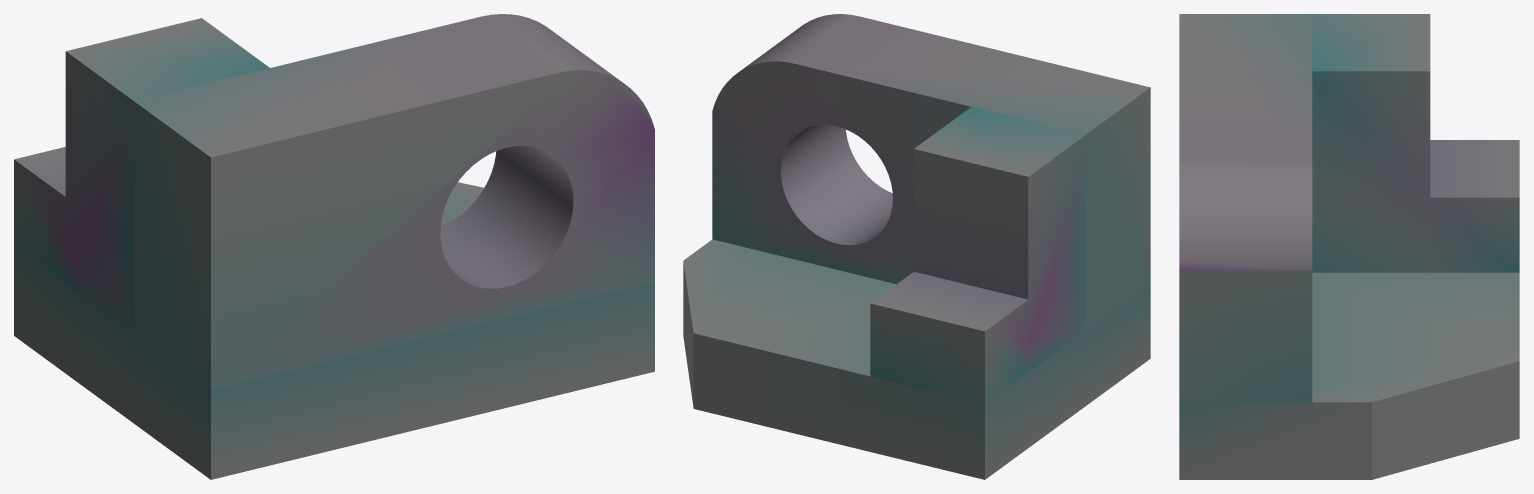
The picture shows the model from 3 angles, left to right: view 1: azimuth 30°, elevation 25°; view 2: azimuth 150°, elevation 25°; view 3: azimuth 270°, elevation 25°; orthographic projection. The views are drawn at different scales.
Visible parts, largest first — view 1: wall, base, tall_return; view 2: wall, base, tall_return; view 3: wall, base, tall_return.
Part boxes in pixels (<box>): wall: <box>134,14,654,392</box>; base: <box>14,182,654,479</box>; tall_return: <box>14,18,269,333</box>; wall: <box>712,14,1150,332</box>; base: <box>683,239,1150,479</box>; tall_return: <box>870,107,1085,404</box>; wall: <box>1179,14,1312,404</box>; base: <box>1179,272,1519,479</box>; tall_return: <box>1312,14,1519,272</box>.
Size of the model in its own units: 0.15 by 0.1041 by 0.1152.
